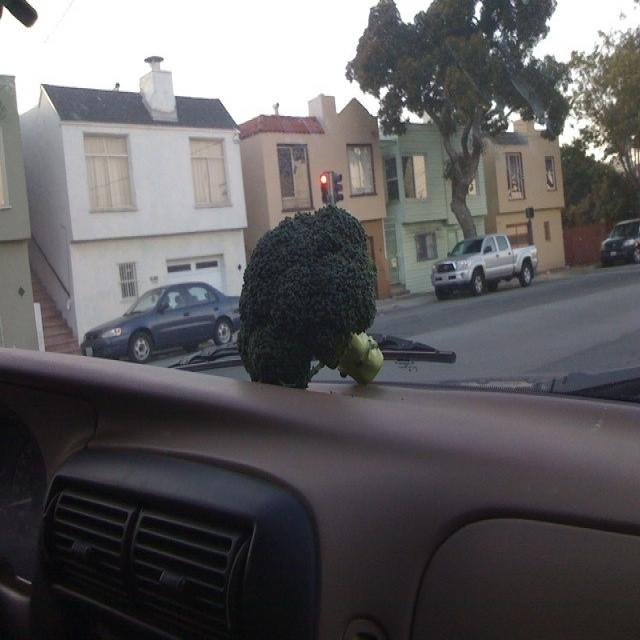car: (75, 279, 245, 364), (599, 216, 637, 263)
truck: (428, 230, 538, 298)
